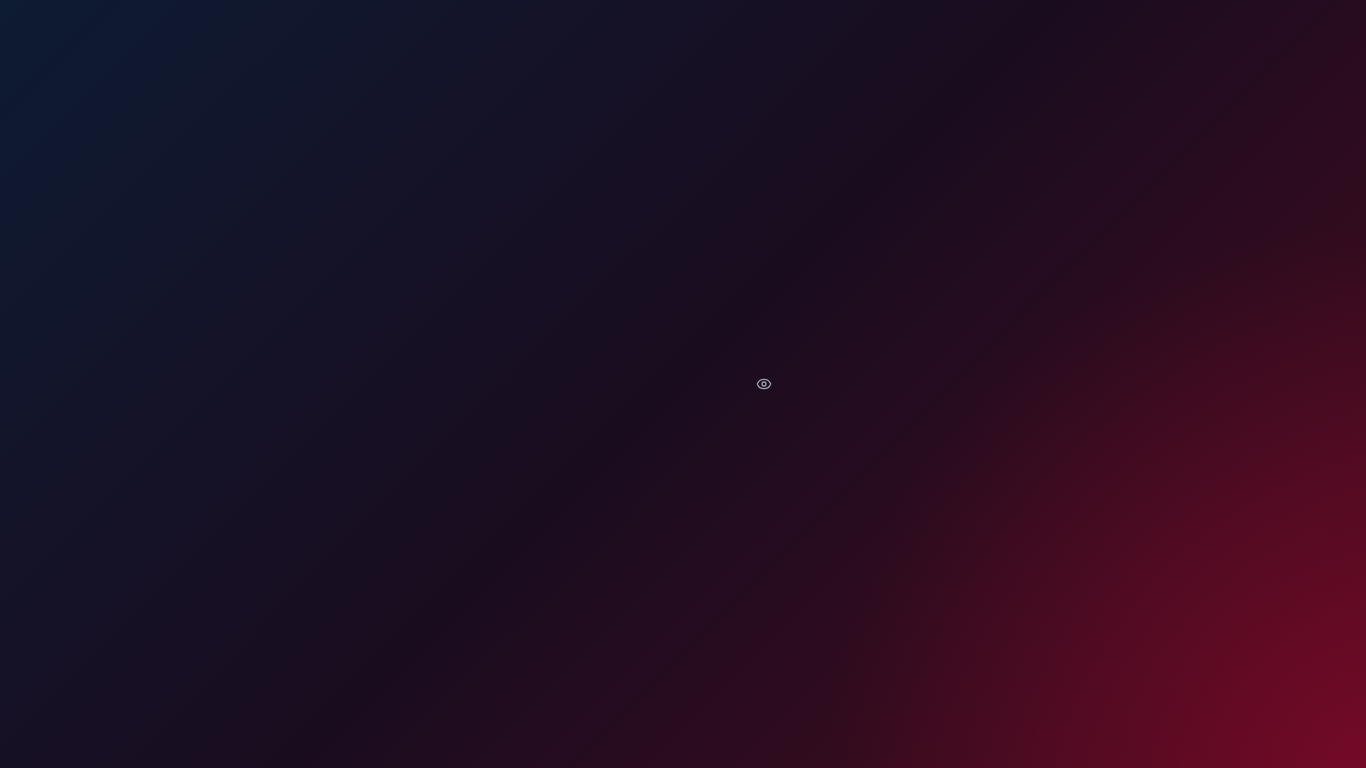
Test: PasswordField strength + confirm › shows strength label and mismatch error
This screenshot has width=1366, height=768.
Type "abcd" into the password field named "p" at [683, 384], box [582,371,784,397]
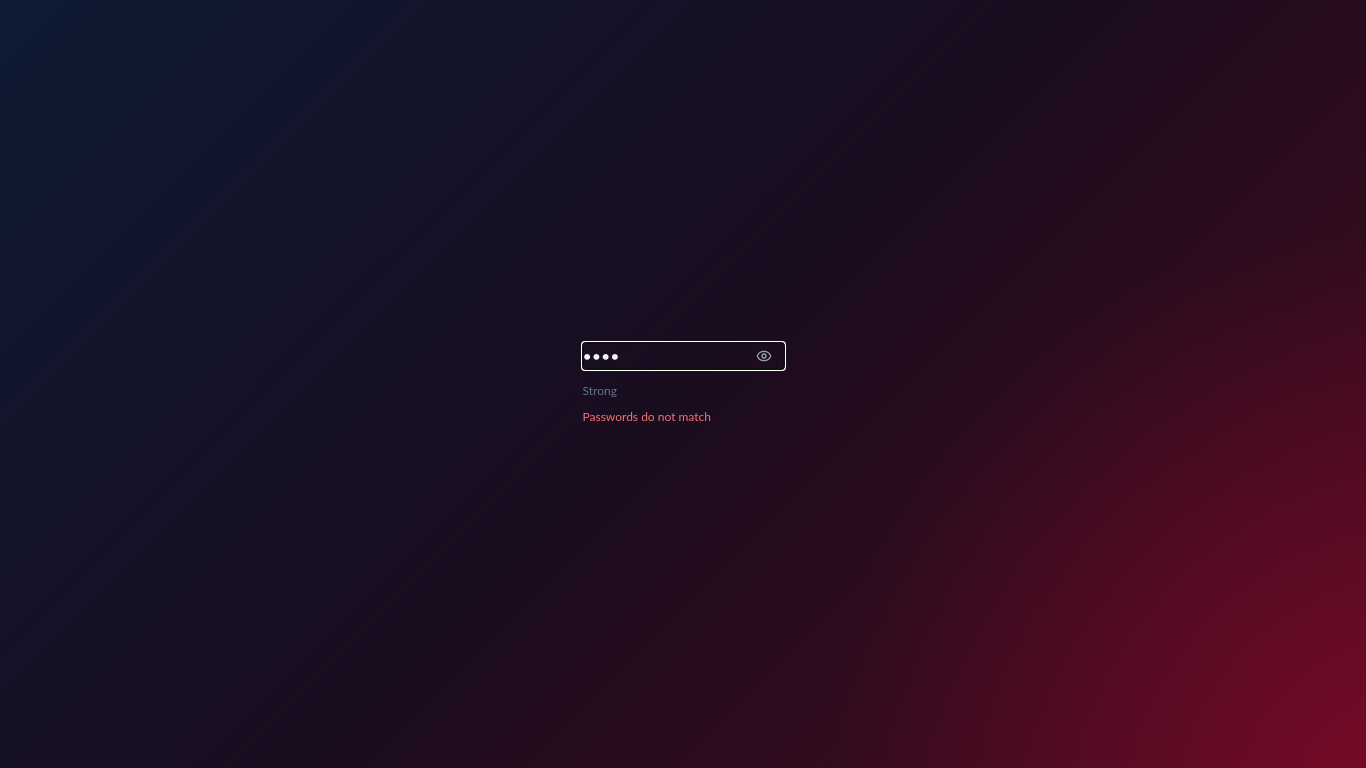
Expected: the text "Strong" is shown, [582,383,617,398]
Expected: the message "Passwords do not match" is shown, [582,409,711,424]
